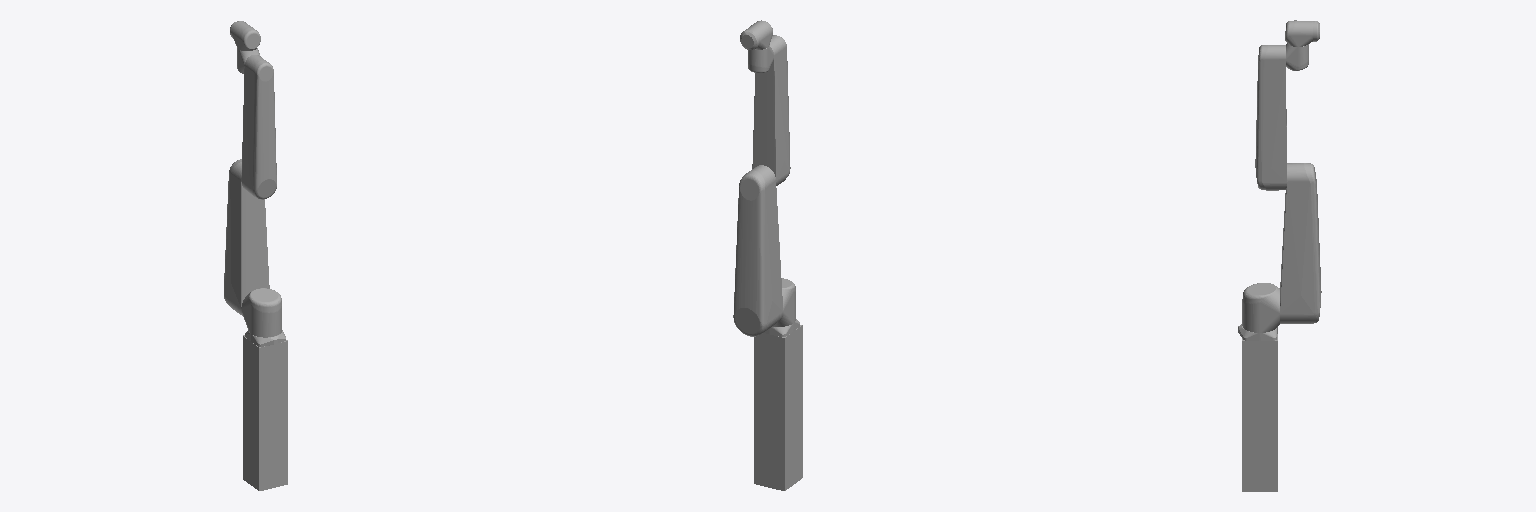
robot.urdf — robot:
<?xml version="1.0" ?>
<!-- =================================================================================== -->
<!-- |    This document was autogenerated by xacro from urdf/ur10_robot.urdf.xacro     | -->
<!-- |    EDITING THIS FILE BY HAND IS NOT RECOMMENDED                                 | -->
<!-- =================================================================================== -->
<robot name="robot" xmlns:xacro="http://www.ros.org/wiki/xacro">
  <!-- ur10 -->
  <material name="gray">
    <color rgba="0.7 0.7 0.7 1" />
  </material>

  <!-- pole -->
  <link name="pole">
    <visual>
      <origin rpy="0 0 0" xyz="0 0 .355"/>
      <geometry>
				<!-- <mesh filename="cube.obj" scale=".1 .1 .355"/> -->
	 	    <box size=".15 .15 .71"/>
       </geometry>
       <material name="gray" />
    </visual>
    <collision>
      <origin rpy="0 0 0" xyz="0 0 0"/>
      <geometry>
	 	    <box size=".15 .15 .71"/>
      </geometry>
    </collision>
  </link>

  <joint name="world_joint" type="fixed">
    <parent link="pole"/>
    <child link="base_link"/>
    <origin rpy="0.0 0.0 0.0" xyz="0.0 0.0 0.71"/>
  </joint>

  <!-- arm -->
  <link name="base_link">
    <visual>
      <geometry>
        <mesh filename="ur_description/meshes/ur10/visual/Base.obj"/>
      </geometry>
      <material name="gray" />
    </visual>
    <collision>
      <geometry>
        <mesh filename="ur_description/meshes/ur10/collision/Base.obj"/>
      </geometry>
    </collision>
    <inertial>
      <mass value="4.0"/>
      <origin rpy="0 0 0" xyz="0.0 0.0 0.0"/>
      <inertia ixx="0.0061063308908" ixy="0.0" ixz="0.0" iyy="0.0061063308908" iyz="0.0" izz="0.01125"/>
    </inertial>
  </link>
  <joint name="shoulder_pan_joint" type="revolute">
    <parent link="base_link"/>
    <child link="shoulder_link"/>
    <origin rpy="0.0 0.0 0.0" xyz="0.0 0.0 0.1273"/>
    <axis xyz="0 0 1"/>
    <limit effort="330.0" lower="-6.2831853" upper="6.2831853" velocity="2.16"/>
    <dynamics damping="0.0" friction="0.0"/>
  </joint>
  <link name="shoulder_link">
    <visual>
      <geometry>
        <mesh filename="ur_description/meshes/ur10/visual/Shoulder.obj"/>
      </geometry>
      <material name="gray" />
    </visual>
    <collision>
      <geometry>
        <mesh filename="ur_description/meshes/ur10/collision/Shoulder.obj"/>
      </geometry>
    </collision>
    <inertial>
      <mass value="7.778"/>
      <origin rpy="0 0 0" xyz="0.0 0.0 0.0"/>
      <inertia ixx="0.0314743125769" ixy="0.0" ixz="0.0" iyy="0.0314743125769" iyz="0.0" izz="0.021875625"/>
    </inertial>
  </link>
  <joint name="shoulder_lift_joint" type="revolute">
    <parent link="shoulder_link"/>
    <child link="upper_arm_link"/>
    <origin rpy="0.0 0.0 0.0" xyz="0.0 0.220941 0.0"/>
    <axis xyz="0 1 0"/>
    <limit effort="330.0" lower="-6.2831853" upper="6.2831853" velocity="2.16"/>
    <dynamics damping="0.0" friction="0.0"/>
  </joint>
  <link name="upper_arm_link">
    <visual>
      <geometry>
        <mesh filename="ur_description/meshes/ur10/visual/UpperArm.obj"/>
      </geometry>
      <material name="gray"/>
    </visual>
    <collision>
      <geometry>
        <mesh filename="ur_description/meshes/ur10/collision/UpperArm.obj"/>
      </geometry>
    </collision>
    <inertial>
      <mass value="12.93"/>
      <origin rpy="0 0 0" xyz="0.0 0.0 0.306"/>
      <inertia ixx="0.421753803798" ixy="0.0" ixz="0.0" iyy="0.421753803798" iyz="0.0" izz="0.036365625"/>
    </inertial>
  </link>
  <joint name="elbow_joint" type="revolute">
    <parent link="upper_arm_link"/>
    <child link="forearm_link"/>
    <origin rpy="0.0 0.0 0.0" xyz="0.0 -0.1719 0.612"/>
    <axis xyz="0 1 0"/>
    <limit effort="150.0" lower="-6.2831853" upper="6.2831853" velocity="3.15"/>
    <dynamics damping="0.0" friction="0.0"/>
  </joint>
  <link name="forearm_link">
    <visual>
      <geometry>
        <mesh filename="ur_description/meshes/ur10/visual/Forearm.obj"/>
      </geometry>
      <material name="gray" />
    </visual>
    <collision>
      <geometry>
        <mesh filename="ur_description/meshes/ur10/collision/Forearm.obj"/>
      </geometry>
    </collision>
    <inertial>
      <mass value="3.87"/>
      <origin rpy="0 0 0" xyz="0.0 0.0 0.28615"/>
      <inertia ixx="0.111069694097" ixy="0.0" ixz="0.0" iyy="0.111069694097" iyz="0.0" izz="0.010884375"/>
    </inertial>
  </link>
  <joint name="wrist_1_joint" type="revolute">
    <parent link="forearm_link"/>
    <child link="wrist_1_link"/>
    <origin rpy="0.0 0.0 0.0" xyz="0.0 0.0 0.5723"/>
    <axis xyz="0 1 0"/>
    <limit effort="54.0" lower="-6.2831853" upper="6.2831853" velocity="3.2"/>
    <dynamics damping="0.0" friction="0.0"/>
  </joint>
  <link name="wrist_1_link">
    <visual>
      <geometry>
        <mesh filename="ur_description/meshes/ur10/visual/Wrist1.obj"/>
      </geometry>
      <material name="gray" />
    </visual>
    <collision>
      <geometry>
        <mesh filename="ur_description/meshes/ur10/collision/Wrist1.obj"/>
      </geometry>
    </collision>
    <inertial>
      <mass value="1.96"/>
      <origin rpy="0 0 0" xyz="0.0 0.0 0.0"/>
      <inertia ixx="0.0051082479567" ixy="0.0" ixz="0.0" iyy="0.0051082479567" iyz="0.0" izz="0.0055125"/>
    </inertial>
  </link>
  <joint name="wrist_2_joint" type="revolute">
    <parent link="wrist_1_link"/>
    <child link="wrist_2_link"/>
    <origin rpy="0.0 0.0 0.0" xyz="0.0 0.1149 0.0"/>
    <axis xyz="0 0 1"/>
    <limit effort="54.0" lower="-6.2831853" upper="6.2831853" velocity="3.2"/>
    <dynamics damping="0.0" friction="0.0"/>
  </joint>
  <link name="wrist_2_link">
    <visual>
      <geometry>
        <mesh filename="ur_description/meshes/ur10/visual/Wrist2.obj"/>
      </geometry>
      <material name="gray" />
    </visual>
    <collision>
      <geometry>
        <mesh filename="ur_description/meshes/ur10/collision/Wrist2.obj"/>
      </geometry>
    </collision>
    <inertial>
      <mass value="1.96"/>
      <origin rpy="0 0 0" xyz="0.0 0.0 0.0"/>
      <inertia ixx="0.0051082479567" ixy="0.0" ixz="0.0" iyy="0.0051082479567" iyz="0.0" izz="0.0055125"/>
    </inertial>
  </link>
  <joint name="wrist_3_joint" type="revolute">
    <parent link="wrist_2_link"/>
    <child link="wrist_3_link"/>
    <origin rpy="0.0 0.0 0.0" xyz="0.0 0.0 0.1157"/>
    <axis xyz="0 1 0"/>
    <limit effort="54.0" lower="-6.2831853" upper="6.2831853" velocity="3.2"/>
    <dynamics damping="0.0" friction="0.0"/>
  </joint>
  <link name="wrist_3_link">
    <visual>
      <geometry>
        <mesh filename="ur_description/meshes/ur10/visual/Wrist3.obj"/>
      </geometry>
      <material name="gray" />
    </visual>
    <collision>
      <geometry>
        <mesh filename="ur_description/meshes/ur10/collision/Wrist3.obj"/>
      </geometry>
    </collision>
    <inertial>
      <mass value="0.202"/>
      <origin rpy="0 0 0" xyz="0.0 0.0 0.0"/>
      <inertia ixx="0.000526462289415" ixy="0.0" ixz="0.0" iyy="0.000526462289415" iyz="0.0" izz="0.000568125"/>
    </inertial>
  </link>
  <transmission name="shoulder_pan_trans">
    <type>transmission_interface/SimpleTransmission</type>
    <joint name="shoulder_pan_joint"/>
    <actuator name="shoulder_pan_motor">
      <hardwareInterface>EffortJointInterface</hardwareInterface>
      <mechanicalReduction>1</mechanicalReduction>
    </actuator>
  </transmission>
  <transmission name="shoulder_lift_trans">
    <type>transmission_interface/SimpleTransmission</type>
    <joint name="shoulder_lift_joint"/>
    <actuator name="shoulder_lift_motor">
      <hardwareInterface>EffortJointInterface</hardwareInterface>
      <mechanicalReduction>1</mechanicalReduction>
    </actuator>
  </transmission>
  <transmission name="elbow_trans">
    <type>transmission_interface/SimpleTransmission</type>
    <joint name="elbow_joint"/>
    <actuator name="elbow_motor">
      <hardwareInterface>EffortJointInterface</hardwareInterface>
      <mechanicalReduction>1</mechanicalReduction>
    </actuator>
  </transmission>
  <transmission name="wrist_1_trans">
    <type>transmission_interface/SimpleTransmission</type>
    <joint name="wrist_1_joint"/>
    <actuator name="wrist_1_motor">
      <hardwareInterface>EffortJointInterface</hardwareInterface>
      <mechanicalReduction>1</mechanicalReduction>
    </actuator>
  </transmission>
  <transmission name="wrist_2_trans">
    <type>transmission_interface/SimpleTransmission</type>
    <joint name="wrist_2_joint"/>
    <actuator name="wrist_2_motor">
      <hardwareInterface>EffortJointInterface</hardwareInterface>
      <mechanicalReduction>1</mechanicalReduction>
    </actuator>
  </transmission>
  <transmission name="wrist_3_trans">
    <type>transmission_interface/SimpleTransmission</type>
    <joint name="wrist_3_joint"/>
    <actuator name="wrist_3_motor">
      <hardwareInterface>EffortJointInterface</hardwareInterface>
      <mechanicalReduction>1</mechanicalReduction>
    </actuator>
  </transmission>

  <joint name="attachement_joint" type="fixed">
    <parent link="wrist_3_link"/>
    <child link="rh_p12_rn_base"/>
    <origin rpy="-1.57079632 0 0" xyz="0 .09 0"/><!--.082515-->
  </joint>

  <!-- rh p12 rn a -->
  <!-- End Effector -->
  <!-- base -->
  <link name="rh_p12_rn_base">
    <collision>
      <origin rpy="0 0 0" xyz="0 0 0"/>
      <geometry>
        <mesh filename="package://rh_p12_rn_description/meshes/base.stl" scale="0.001 0.001 0.001"/>
      </geometry>
    </collision>
    <visual>
      <origin rpy="0 0 0" xyz="0 0 0"/>
      <geometry>
        <mesh filename="package://rh_p12_rn_description/meshes/base.stl" scale="0.001 0.001 0.001"/>
      </geometry>
      <material name="grey"/>
    </visual>
    <inertial>
      <origin rpy="0 0 0" xyz="0.000 0.000 0.032"/>
      <mass value="0.236"/>
      <!--<inertia ixx="0.00017" ixy="0.0" ixz="0.0" iyy="0.00011" iyz="0.0" izz="0.00017" />-->
      <inertia ixx="1.0" ixy="0.0" ixz="0.0" iyy="1.0" iyz="0.0" izz="1.0"/>
    </inertial>
  </link>
  <!-- Joint -->
  <joint name="rh_r1" type="revolute">
    <parent link="rh_p12_rn_base"/>
    <child link="rh_p12_rn_r1"/>
    <origin rpy="0 0 0" xyz="0.0 0.008 0.048"/>
    <axis xyz="1 0 0"/>
    <limit effort="100" lower="0.0" upper="1.2" velocity="1000"/>
    <!-- <dynamics damping="0.7"/> -->
  </joint>
  <transmission name="tran_r1">
    <type>transmission_interface/SimpleTransmission</type>
    <joint name="rh_r1"> 
      <hardwareInterface>hardware_interface/EffortJointInterface</hardwareInterface>
    </joint>
    <actuator name="motor_r1">
      <hardwareInterface>hardware_interface/EffortJointInterface</hardwareInterface>
      <mechanicalReduction>1</mechanicalReduction>
    </actuator>
  </transmission>
  <!-- rh_p12_rn_r1 -->
  <link name="rh_p12_rn_r1">
    <collision>
      <origin rpy="0 0 0" xyz="0 0 0"/>
      <geometry>
        <mesh filename="package://rh_p12_rn_description/meshes/r1.stl" scale="0.001 0.001 0.001"/>
      </geometry>
    </collision>
    <visual>
      <origin rpy="0 0 0" xyz="0 0 0"/>
      <geometry>
        <mesh filename="package://rh_p12_rn_description/meshes/r1.stl" scale="0.001 0.001 0.001"/>
      </geometry>
      <material name="grey"/>
    </visual>
    <inertial>
      <origin rpy="0 0 0" xyz="0.000 0.034 0.004"/>
      <mass value="0.068"/>
      <!--<inertia ixx="0.00004" ixy="0.0" ixz="0.0" iyy="0.00002" iyz="-0.00001" izz="0.00002" />-->
      <inertia ixx="1.0" ixy="0.0" ixz="0.0" iyy="1.0" iyz="0.0" izz="1.0"/>
    </inertial>
  </link>
  <!-- Right Joint 2 -->
  <joint name="rh_r2" type="revolute">
    <parent link="rh_p12_rn_r1"/>
    <child link="rh_p12_rn_r2"/>
    <origin rpy="0.0 0 0" xyz="0.0 0.0493634 0.0285"/>
    <!-- <origin rpy="0 0 0" xyz="0.0 0.0493634 0.0285"/> -->
    <axis xyz="-1 0 0"/>
    <limit effort="100" lower="0.0" upper="1.2" velocity="1000"/>
    <!-- <dynamics damping="0.7"/> -->
  </joint>
  <transmission name="tran_r2">
    <type>transmission_interface/SimpleTransmission</type>
    <joint name="rh_r2">
      <hardwareInterface>hardware_interface/EffortJointInterface</hardwareInterface>
    </joint>
    <actuator name="motor_r2">
      <hardwareInterface>hardware_interface/EffortJointInterface</hardwareInterface>
      <mechanicalReduction>1</mechanicalReduction>
    </actuator>
  </transmission>
  <!-- rh_p12_rn_r2 -->
  <link name="rh_p12_rn_r2">
    <collision>
      <origin rpy="0 0 0" xyz="0 0 0"/>
      <geometry>
        <mesh filename="package://rh_p12_rn_description/meshes/r2.stl" scale="0.001 0.001 0.001"/>
      </geometry>
    </collision>
    <visual>
      <origin rpy="0 0 0" xyz="0 0 0"/>
      <geometry>
        <mesh filename="package://rh_p12_rn_description/meshes/r2.stl" scale="0.001 0.001 0.001"/>
      </geometry>
      <material name="grey"/>
    </visual>
    <inertial>
      <origin rpy="0 0 0" xyz="0.000 0.006 0.011"/>
      <mass value="0.022"/>
      <!--<inertia ixx="0.0" ixy="0.0" ixz="0.0" iyy="0.00001" iyz="0.0" izz="0.0" />-->
      <inertia ixx="1.0" ixy="0.0" ixz="0.0" iyy="1.0" iyz="0.0" izz="1.0"/>
    </inertial>
  </link>
  <!-- Left Joint 1 -->
  <joint name="rh_l1" type="revolute">
    <parent link="rh_p12_rn_base"/>
    <child link="rh_p12_rn_l1"/>
    <origin rpy="0 0 0" xyz="0.0 -0.008 0.048"/>
    <axis xyz="-1 0 0"/>
    <limit effort="100" lower="0.0" upper="1.2" velocity="1000"/>
    <!-- <dynamics damping="0.7"/> -->
  </joint>
  <transmission name="tran_l1">
    <type>transmission_interface/SimpleTransmission</type>
    <joint name="rh_l1">
      <hardwareInterface>hardware_interface/EffortJointInterface</hardwareInterface>
    </joint>
    <actuator name="motor_l1">
      <hardwareInterface>hardware_interface/EffortJointInterface</hardwareInterface>
      <mechanicalReduction>1</mechanicalReduction>
    </actuator>
  </transmission>
  <!-- rh_p12_rn_l1 -->
  <link name="rh_p12_rn_l1">
    <collision>
      <origin rpy="0 0 0" xyz="0 0 0"/>
      <geometry>
        <mesh filename="package://rh_p12_rn_description/meshes/l1.stl" scale="0.001 0.001 0.001"/>
      </geometry>
    </collision>
    <visual>
      <origin rpy="0 0 0" xyz="0 0 0"/>
      <geometry>
        <mesh filename="package://rh_p12_rn_description/meshes/l1.stl" scale="0.001 0.001 0.001"/>
      </geometry>
      <material name="grey"/>
    </visual>
    <inertial>
      <origin rpy="0 0 0" xyz="0.000 -0.034 0.004"/>
      <mass value="0.068"/>
      <!--<inertia ixx="0.00004" ixy="0.0" ixz="0.0" iyy="0.00002" iyz="0.00001" izz="0.00002" />-->
      <inertia ixx="1.0" ixy="0.0" ixz="0.0" iyy="1.0" iyz="0.0" izz="1.0"/>
    </inertial>
  </link>
  <!-- Left Joint 2 -->
  <joint name="rh_l2" type="revolute">
    <parent link="rh_p12_rn_l1"/>
    <child link="rh_p12_rn_l2"/>
    <origin rpy="0.0 0 0" xyz="0.0 -0.0493634 0.0285"/>
    <!-- <origin rpy="0 0 0" xyz="0.0 -0.0493634 0.0285"/> -->
    <axis xyz="1 0 0"/>
    <limit effort="100" lower="0.0" upper="1.2" velocity="1000"/>
    <!-- <dynamics damping="0.7"/> -->
  </joint>
  <transmission name="tran_l2">
    <type>transmission_interface/SimpleTransmission</type>
    <joint name="rh_l2">
      <hardwareInterface>hardware_interface/EffortJointInterface</hardwareInterface>
    </joint>
    <actuator name="motor_l2">
      <hardwareInterface>hardware_interface/EffortJointInterface</hardwareInterface>
      <mechanicalReduction>1</mechanicalReduction>
    </actuator>
  </transmission>
  <!-- rh_p12_rn_l2 -->
  <link name="rh_p12_rn_l2">
    <collision>
      <origin rpy="0 0 0" xyz="0 0 0"/>
      <geometry>
        <mesh filename="package://rh_p12_rn_description/meshes/l2.stl" scale="0.001 0.001 0.001"/>
      </geometry>
    </collision>
    <visual>
      <origin rpy="0 0 0" xyz="0 0 0"/>
      <geometry>
        <mesh filename="package://rh_p12_rn_description/meshes/l2.stl" scale="0.001 0.001 0.001"/>
      </geometry>
      <material name="grey"/>
    </visual>
    <inertial>
      <origin rpy="0 0 0" xyz="0.000 -0.006 0.011"/>
      <mass value="0.022"/>
      <!--<inertia ixx="0.0" ixy="0.0" ixz="0.0" iyy="0.00001" iyz="0.0" izz="0.0" />-->
      <inertia ixx="1.0" ixy="0.0" ixz="0.0" iyy="1.0" iyz="0.0" izz="1.0"/>
    </inertial>
  </link>
</robot>

--- Facts derived from the render (not from the file) ---
3 views of the same robot in one strip: view 1: azimuth 30°, elevation 25°; view 2: azimuth 150°, elevation 25°; view 3: azimuth 270°, elevation 25° (orthographic).
Model robot with 13 links and 12 joints (10 revolute, 2 fixed), rooted at pole, posed all joints at 0.
Links seen in each view (by area): view 1: pole, upper_arm_link, forearm_link, shoulder_link, wrist_2_link; view 2: pole, upper_arm_link, forearm_link, shoulder_link, wrist_1_link; view 3: upper_arm_link, pole, forearm_link, shoulder_link, wrist_2_link, wrist_1_link.
Link boxes in pixels (x1,y1,x2,y2): pole: [243, 335, 287, 490]; upper_arm_link: [224, 159, 269, 315]; forearm_link: [241, 55, 276, 199]; shoulder_link: [241, 288, 281, 337]; wrist_2_link: [232, 22, 260, 50]; pole: [754, 325, 802, 490]; upper_arm_link: [733, 165, 782, 336]; forearm_link: [752, 35, 790, 185]; shoulder_link: [772, 278, 795, 326]; wrist_1_link: [748, 45, 773, 72]; upper_arm_link: [1280, 163, 1321, 323]; pole: [1242, 334, 1277, 491]; forearm_link: [1255, 45, 1286, 190]; shoulder_link: [1242, 283, 1279, 332]; wrist_2_link: [1285, 20, 1312, 46]; wrist_1_link: [1286, 43, 1308, 70].
Size in the robot's own frame: 0.1503 by 0.3552 by 2.18 metres.
7 mesh visuals loaded from 12 distinct referenced files (7 OBJ); not drawn: 5 (reference not matched to a file when rendering).